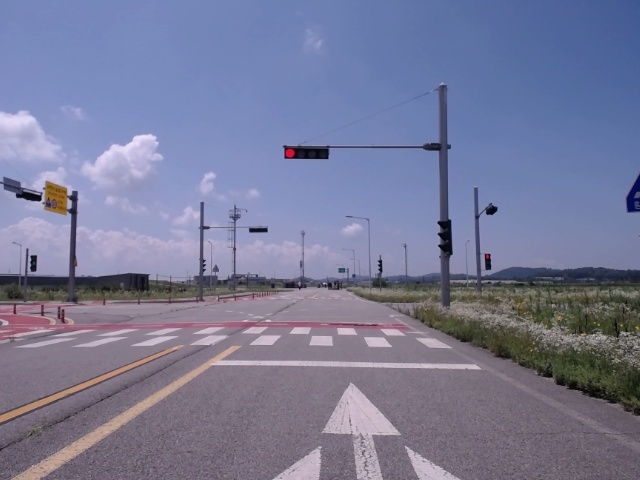red_4: (284, 147, 329, 159)
